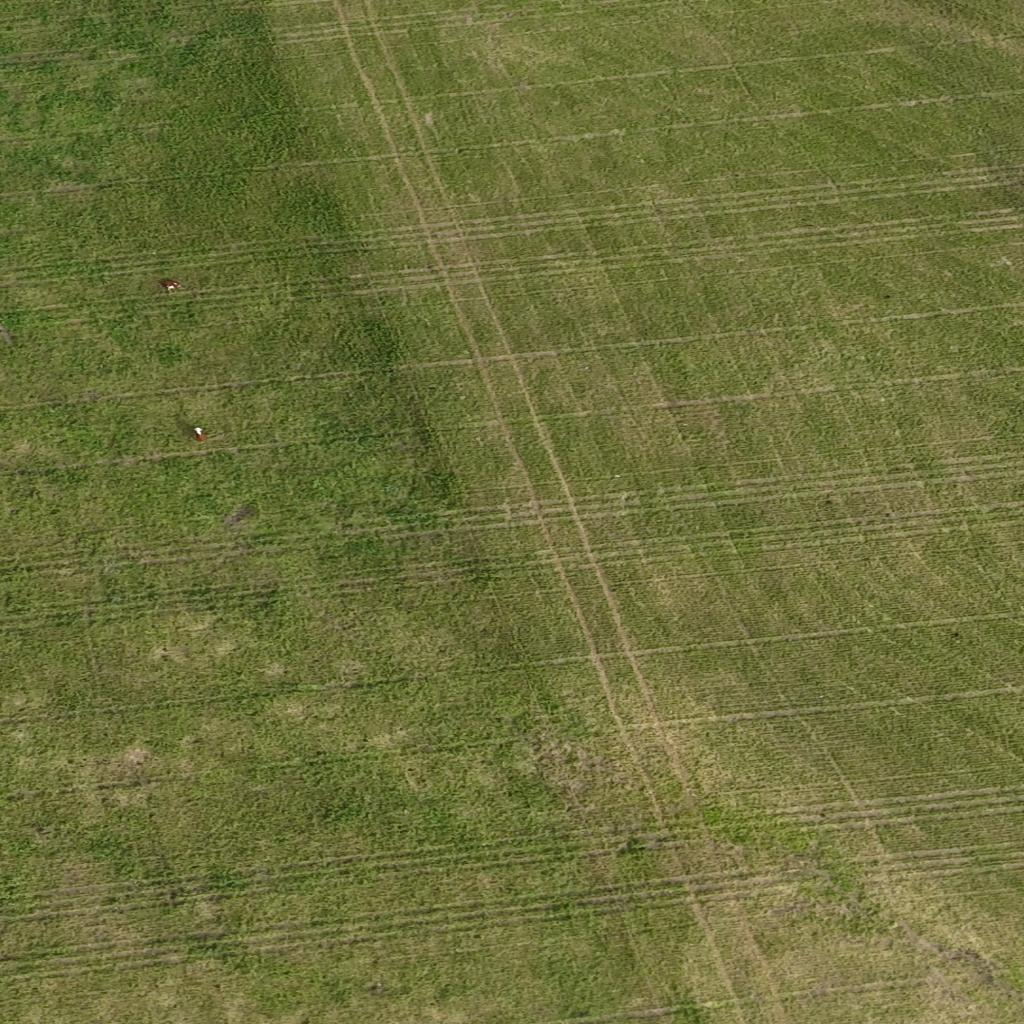cow: (159, 279, 185, 293), (191, 426, 207, 442)
